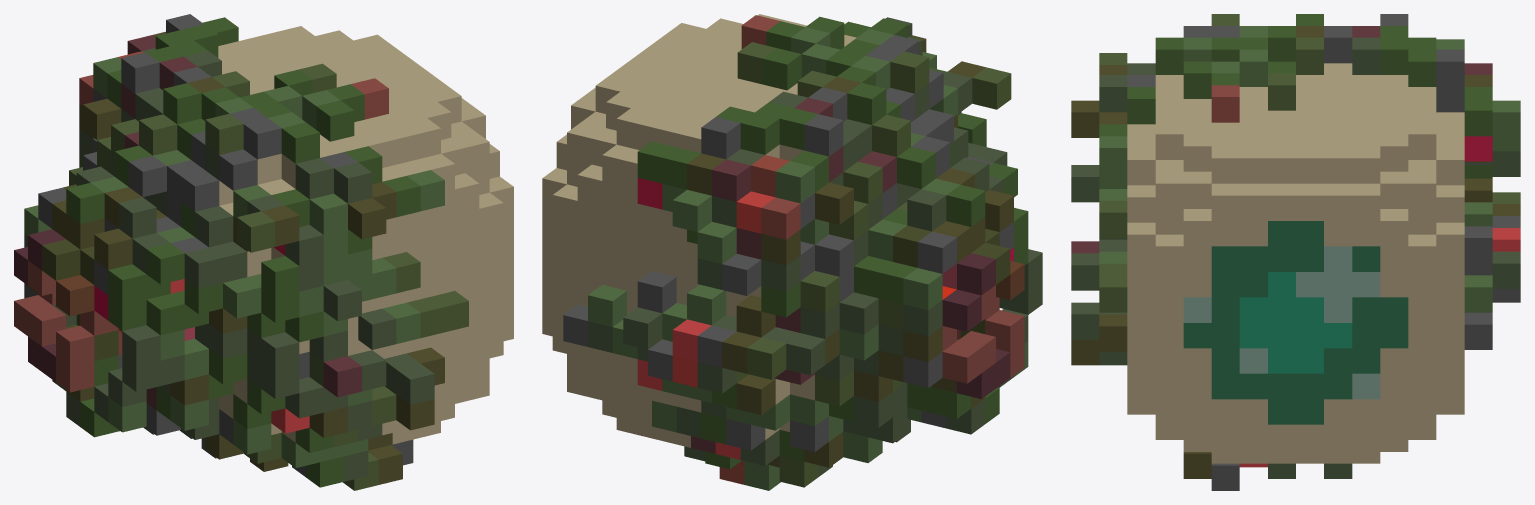
Rendered from mon-10-eyes.obj.
3 renders of one model, left to right at view 1: azimuth 30°, elevation 25°; view 2: azimuth 150°, elevation 25°; view 3: azimuth 270°, elevation 25°, orthographic. The views are drawn at different scales.
Parts seen in each view (by area): view 1: eyes; view 2: eyes; view 3: eyes.
Part boxes in pixels (<box>): eyes: <box>14,14,513,490</box>; eyes: <box>542,14,1042,490</box>; eyes: <box>1071,14,1520,490</box>.
Bounding box in the file's own units: 1.6 × 1.5 × 1.6.
1 material, 1 textured.
